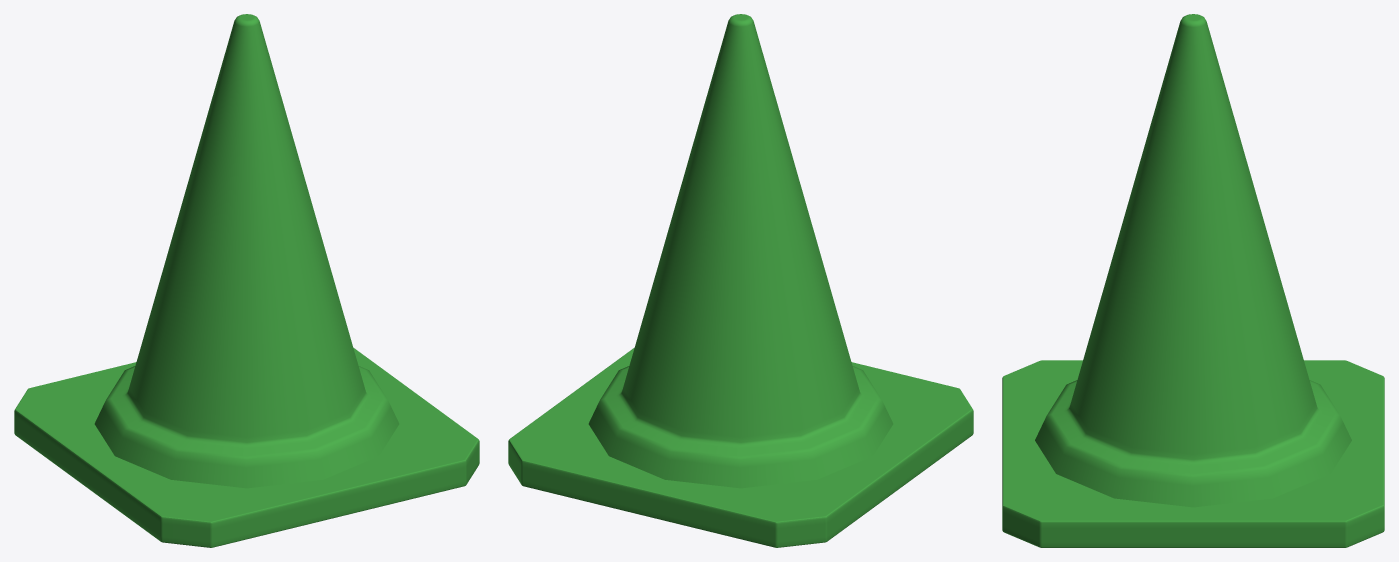
The model's file is CONUS_HP.fbx.
The picture shows the model from 3 angles, left to right: view 1: azimuth 30°, elevation 25°; view 2: azimuth 150°, elevation 25°; view 3: azimuth 270°, elevation 25°; orthographic projection. The views are drawn at different scales.
Visible parts, largest first — view 1: polySurface1; view 2: polySurface1; view 3: polySurface1.
Boxes of the visible parts, left/top/right/bottom form: polySurface1: left=14, top=14, right=479, bottom=547; polySurface1: left=508, top=14, right=973, bottom=547; polySurface1: left=1002, top=14, right=1384, bottom=547.
Size of the model in its own units: 20.6 by 20.6 by 26.75.
